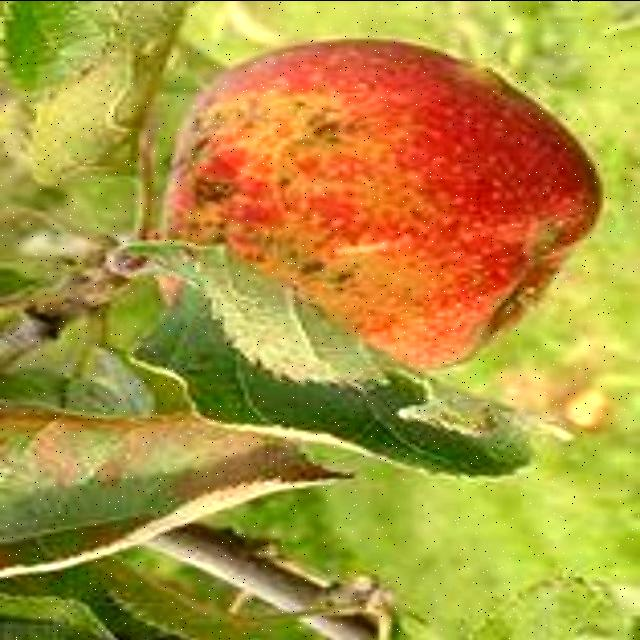SCAB: (106, 39, 588, 373)
